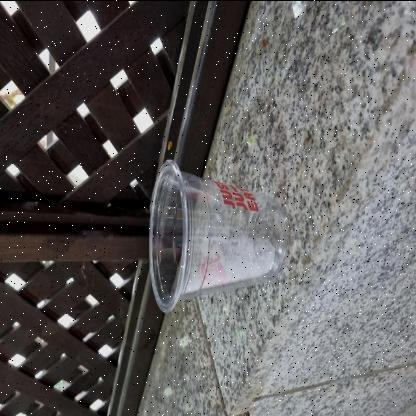Others: (152, 154, 292, 314)
